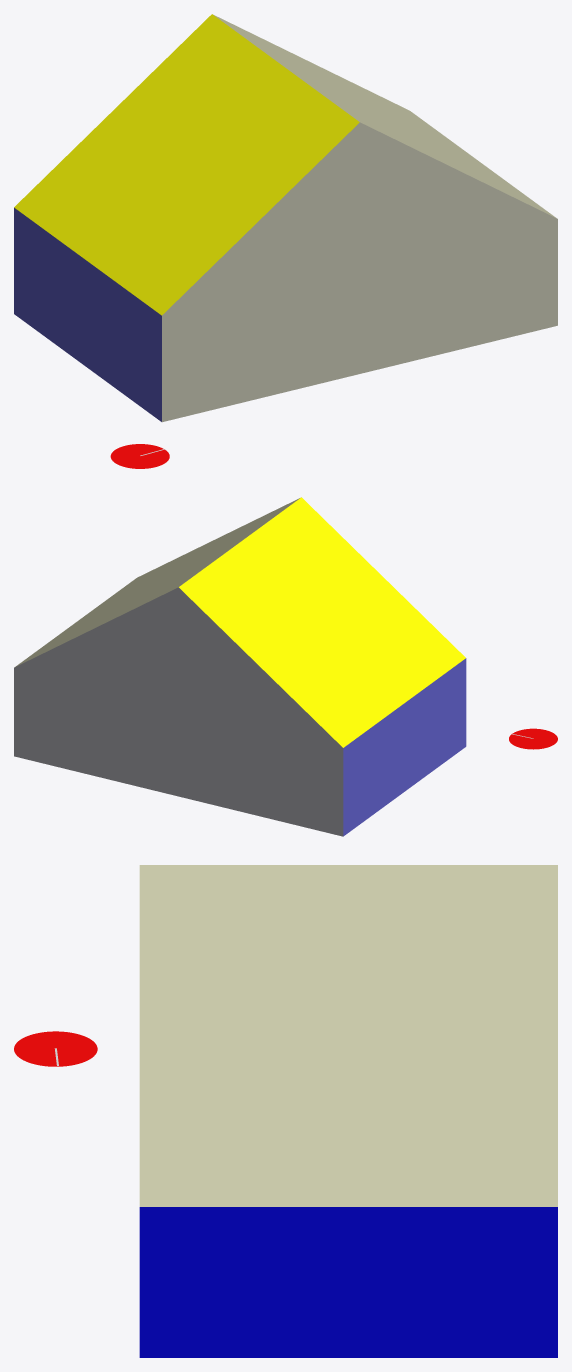
File: result.glb
The picture shows the model from 3 angles, top to bottom: view 1: azimuth 30°, elevation 25°; view 2: azimuth 150°, elevation 25°; view 3: azimuth 270°, elevation 25°; orthographic projection. The views are drawn at different scales.
Parts seen in each view (by area): view 1: 2a291560-8cda-45c0-8123-079fe7a4ffb7__undefined, c71ec93e-494e-4042-af3f-cbd2869f0fdd__undefined, 3c3c6cf7-dc17-4ac1-af54-fcee6ec7b695__undefined, f892536c-024e-4226-ba03-ba6d23993b00__undefined, 3c055c5d-4212-4831-8079-3d54c420a2a4__Circle; view 2: f101cb0a-3f27-47fa-9030-794b01d8968c__undefined, c71ec93e-494e-4042-af3f-cbd2869f0fdd__undefined, 3c3c6cf7-dc17-4ac1-af54-fcee6ec7b695__undefined, f892536c-024e-4226-ba03-ba6d23993b00__undefined, 3c055c5d-4212-4831-8079-3d54c420a2a4__Circle; view 3: f892536c-024e-4226-ba03-ba6d23993b00__undefined, 0c322b83-d0ef-459a-87dc-5a865b94af0d__undefined, 3c055c5d-4212-4831-8079-3d54c420a2a4__Circle.
Part boxes in pixels (bbox=[...]): 2a291560-8cda-45c0-8123-079fe7a4ffb7__undefined: bbox=[162, 122, 557, 422]; c71ec93e-494e-4042-af3f-cbd2869f0fdd__undefined: bbox=[14, 14, 359, 315]; 3c3c6cf7-dc17-4ac1-af54-fcee6ec7b695__undefined: bbox=[14, 207, 161, 421]; f892536c-024e-4226-ba03-ba6d23993b00__undefined: bbox=[214, 15, 556, 218]; 3c055c5d-4212-4831-8079-3d54c420a2a4__Circle: bbox=[110, 444, 169, 468]; f101cb0a-3f27-47fa-9030-794b01d8968c__undefined: bbox=[14, 587, 343, 836]; c71ec93e-494e-4042-af3f-cbd2869f0fdd__undefined: bbox=[179, 497, 465, 747]; 3c3c6cf7-dc17-4ac1-af54-fcee6ec7b695__undefined: bbox=[343, 658, 466, 836]; f892536c-024e-4226-ba03-ba6d23993b00__undefined: bbox=[14, 498, 299, 667]; 3c055c5d-4212-4831-8079-3d54c420a2a4__Circle: bbox=[509, 728, 557, 749]; f892536c-024e-4226-ba03-ba6d23993b00__undefined: bbox=[139, 865, 557, 1206]; 0c322b83-d0ef-459a-87dc-5a865b94af0d__undefined: bbox=[139, 1207, 557, 1357]; 3c055c5d-4212-4831-8079-3d54c420a2a4__Circle: bbox=[14, 1031, 97, 1066].
Size of the model in its own units: 923 by 469 by 650.
